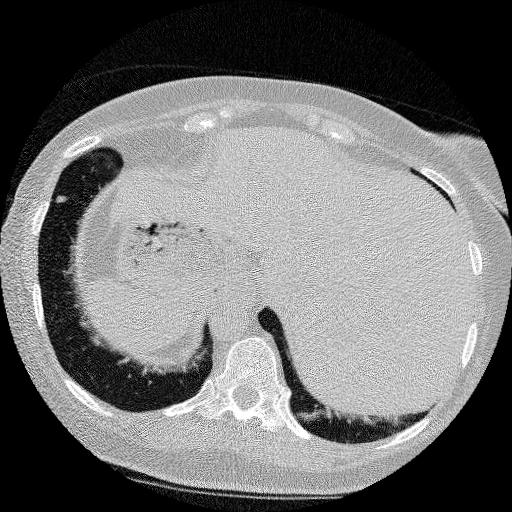nodule: (56, 193, 69, 206)
